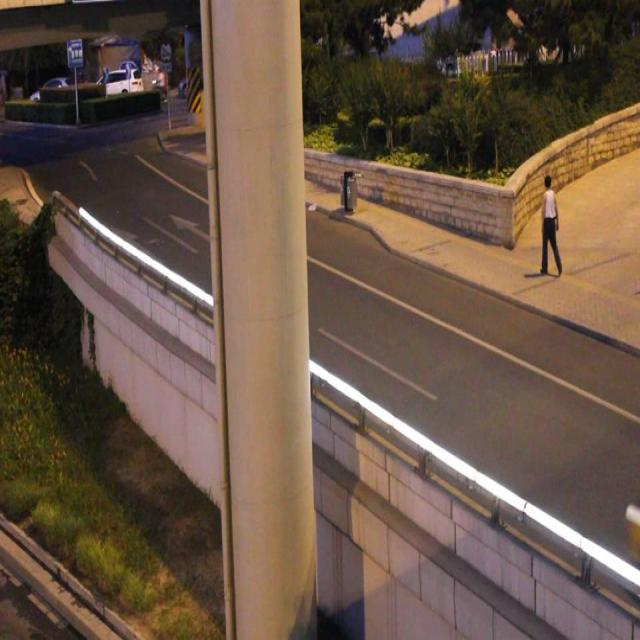car: (625, 496, 640, 561)
